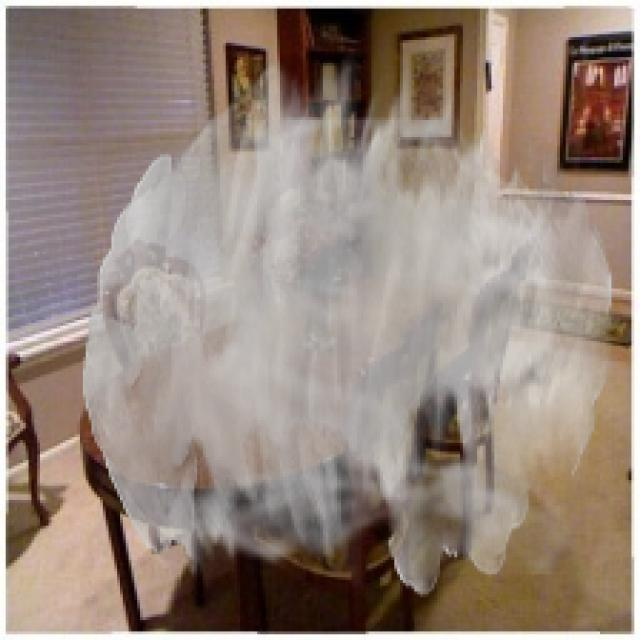Smoke: (82, 54, 614, 597)
